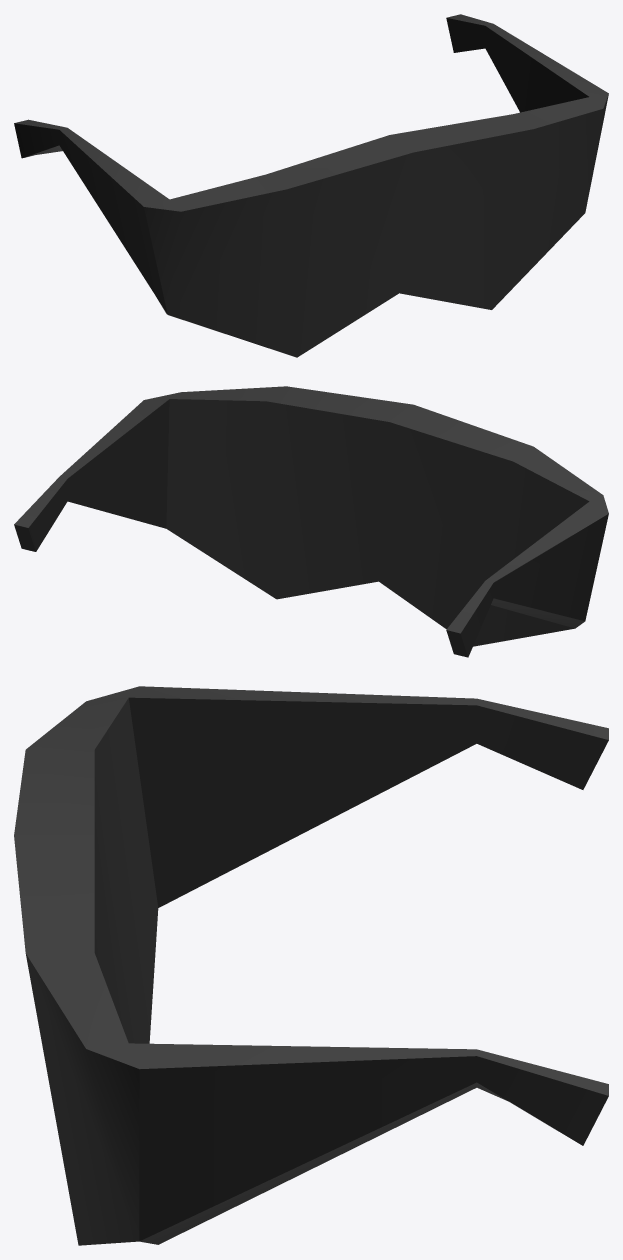
Rendered from Item_Goggles00.FBX.
3 views of the same model, one above another, from view 1: azimuth 30°, elevation 25°; view 2: azimuth 150°, elevation 25°; view 3: azimuth 270°, elevation 25° (orthographic). The views are drawn at different scales.
Parts seen in each view (by area): view 1: Item_Goggles00; view 2: Item_Goggles00; view 3: Item_Goggles00.
Boxes of the visible parts, x1,y1,x2,y2 form: Item_Goggles00: [14, 14, 608, 357]; Item_Goggles00: [14, 386, 608, 657]; Item_Goggles00: [14, 686, 608, 1245].
Size of the model in its own units: 42.73 by 17.16 by 28.06.
